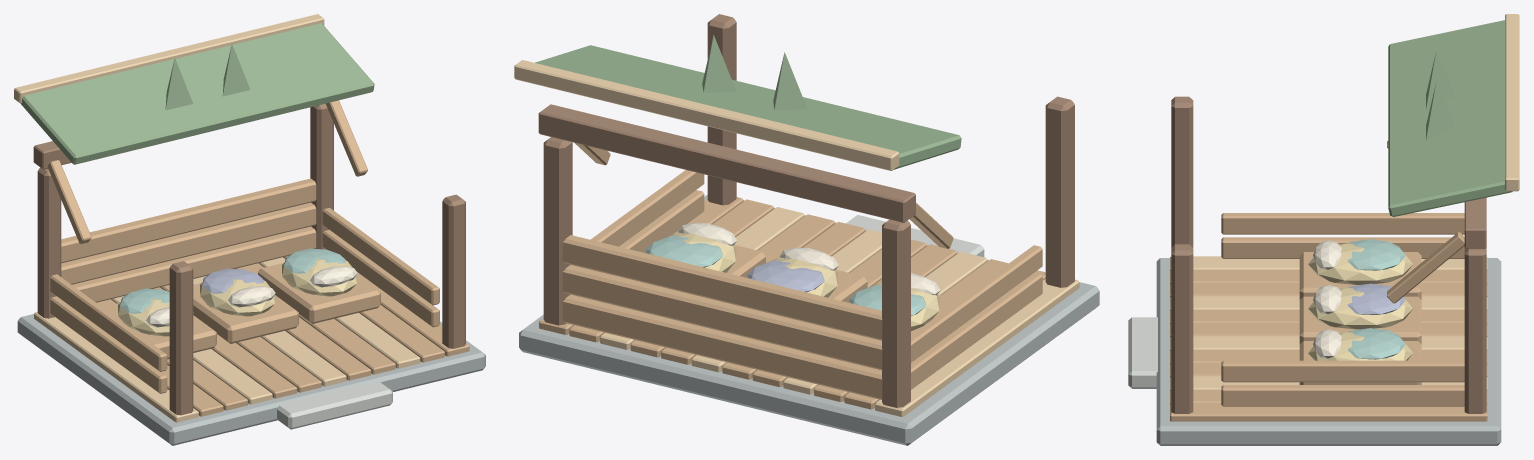
File: den.fbx
3 views of the same model, side by side, from view 1: azimuth 30°, elevation 25°; view 2: azimuth 150°, elevation 25°; view 3: azimuth 270°, elevation 25° (orthographic). The views are drawn at different scales.
Visible parts, largest first — view 1: den_mesh; view 2: den_mesh; view 3: den_mesh.
Boxes of the visible parts, box(x1,y1,x2,y2) form: den_mesh: box(14, 14, 485, 445); den_mesh: box(514, 14, 1099, 445); den_mesh: box(1128, 14, 1519, 445).
Size of the model in its own units: 3.32 by 2.68 by 3.2.
